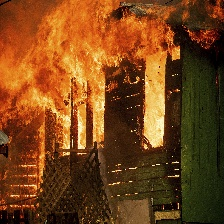fire: (1, 1, 223, 212)
